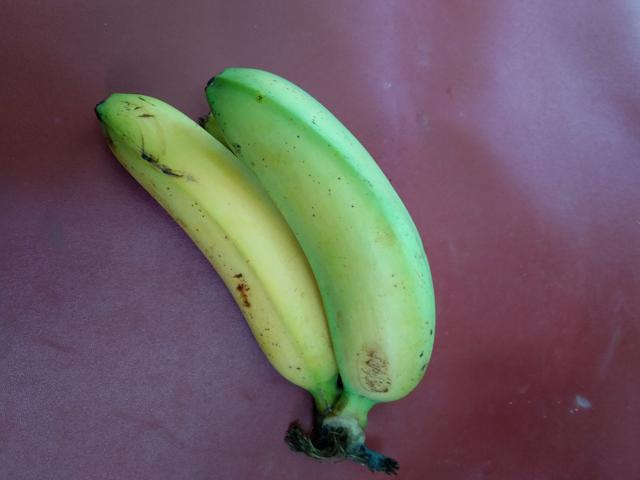freshripe: (200, 55, 439, 413)
ripe: (88, 84, 327, 418)
